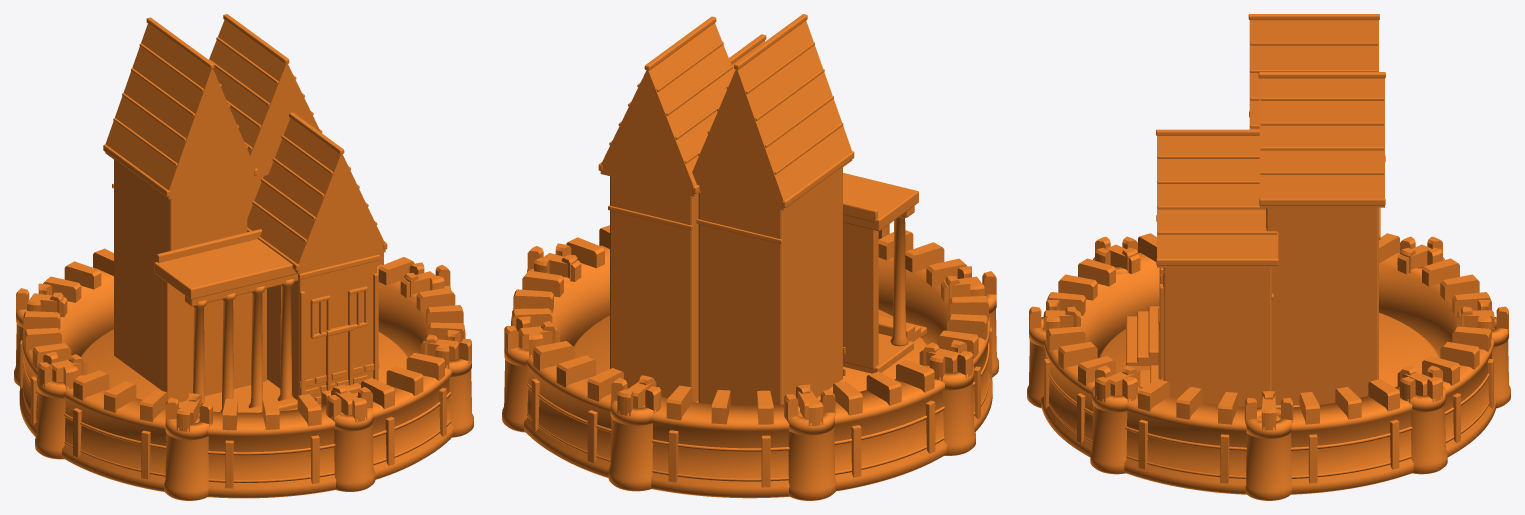
Rendered from city-with-wall-orange.fbx.
3 renders of one model, left to right at view 1: azimuth 30°, elevation 25°; view 2: azimuth 150°, elevation 25°; view 3: azimuth 270°, elevation 25°, orthographic. The views are drawn at different scales.
Parts seen in each view (by area): view 1: Combined_City_Body, Combined_Independent_City_Wall; view 2: Combined_City_Body, Combined_Independent_City_Wall; view 3: Combined_City_Body, Combined_Independent_City_Wall.
Part boxes in pixels (x1=…): Combined_City_Body: x1=80, y1=14, x2=408, y2=412; Combined_Independent_City_Wall: x1=14, y1=248, x2=473, y2=500; Combined_City_Body: x1=573, y1=14, x2=927, y2=405; Combined_Independent_City_Wall: x1=502, y1=224, x2=998, y2=500; Combined_City_Body: x1=1098, y1=14, x2=1439, y2=407; Combined_Independent_City_Wall: x1=1027, y1=233, x2=1510, y2=500.
Bounding box in the file's own units: 0.024 × 0.02 × 0.024.
